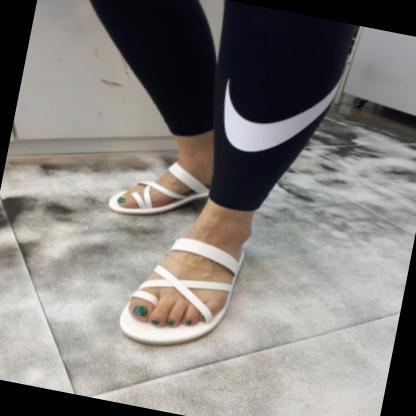no_safety-shoe: (116, 203, 314, 377), (64, 142, 216, 231)
